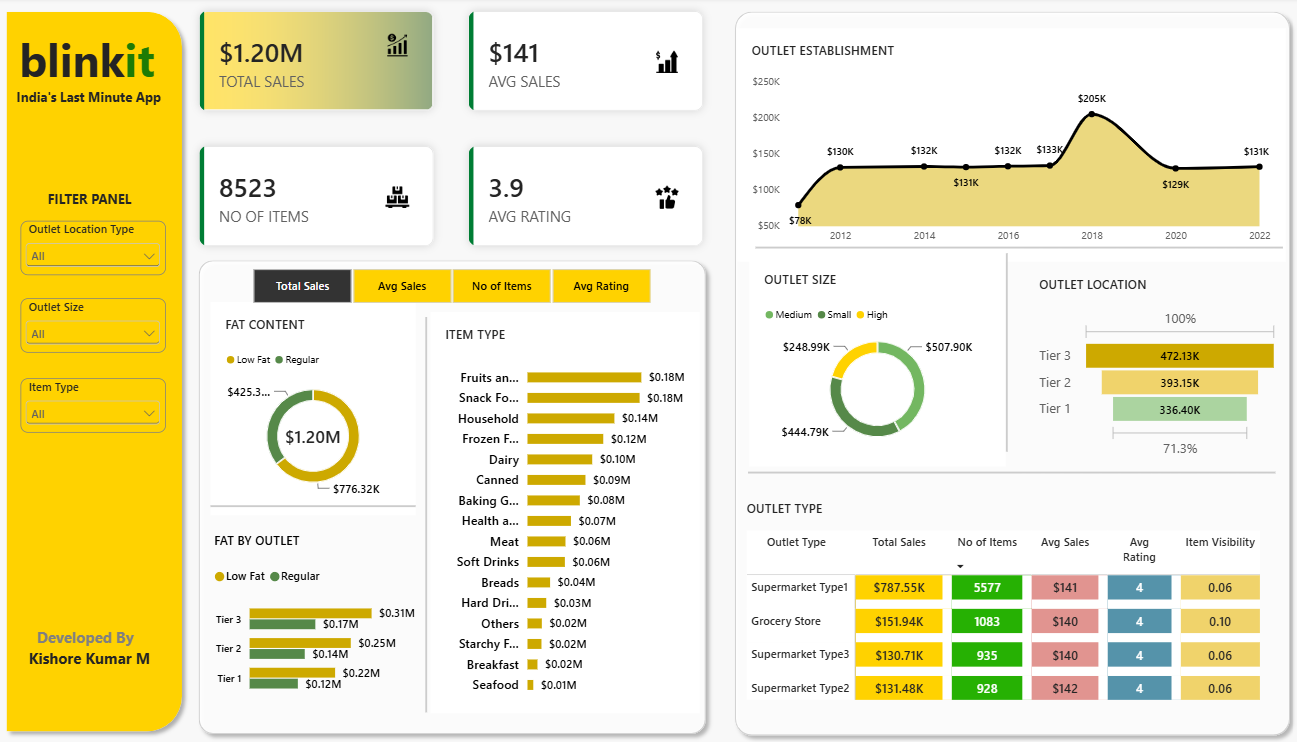

Layout of this report page (visuals, bound fields, positions):
{"tool":"powerbi","page":{"name":"Page 1","canvas":[1400,800],"ordinal":0},"visuals":[{"type":"shape","box":[0,6.2,206.2,790],"z":0},{"type":"textbox","box":[16.2,97.5,162.5,41.2],"z":1000},{"type":"textbox","box":[22.5,33.8,175,76.2],"z":2000},{"type":"cardVisual","fields":{"Data":["BlinkIT Grocery Data.Total Sales","BlinkIT Grocery Data.Avg Sales","BlinkIT Grocery Data.No of Items","BlinkIT Grocery Data.Avg Rating"]},"box":[201.2,0,570,283.8],"z":3000},{"type":"shape","box":[206.2,273.8,561.4,525.7],"z":4000},{"type":"donutChart","title":"FAT CONTENT","fields":{"Category":["BlinkIT Grocery Data.Item Fat Content"],"Y":["BlinkIT Grocery Data.Total Sales"]},"box":[227.5,327.5,220,228.8],"z":5000},{"type":"slicer","fields":{"Values":["Metrics.Metrics"]},"box":[253.8,290,465,40],"z":6000},{"type":"clusteredBarChart","title":"FAT BY OUTLET","fields":{"Category":["BlinkIT Grocery Data.Outlet Location Type"],"Series":["BlinkIT Grocery Data.Item Fat Content"],"Y":["BlinkIT Grocery Data.Total Sales"]},"box":[216.2,558.8,247.5,212.5],"z":7000},{"type":"shape","box":[227.5,533.8,220,25],"z":8000},{"type":"shape","box":[447.5,343.8,23,424],"z":9000},{"type":"barChart","title":"ITEM TYPE","fields":{"Category":["BlinkIT Grocery Data.Item Type"],"Y":["BlinkIT Grocery Data.Total Sales"]},"box":[463.8,337.5,288.8,430],"z":10000},{"type":"shape","box":[781.2,6.2,612.9,794.3],"z":11000},{"type":"lineChart","title":"OUTLET ESTABLISHMENT","fields":{"Category":["BlinkIT Grocery Data.Outlet Establishment Year"],"Y":["BlinkIT Grocery Data.Total Sales"]},"box":[792.5,33.8,588.6,250],"z":12000},{"type":"shape","box":[812.9,248.6,565.7,41.4],"z":13000},{"type":"donutChart","title":"OUTLET SIZE","fields":{"Category":["BlinkIT Grocery Data.Outlet Size"],"Y":["BlinkIT Grocery Data.Total Sales"]},"box":[806.2,278.8,275,225],"z":14000},{"type":"shape","box":[971.2,275,220,212.9],"z":15000},{"type":"funnel","title":"OUTLET LOCATION","fields":{"Category":["BlinkIT Grocery Data.Outlet Location Type"],"Y":["Sum(BlinkIT Grocery Data.Sales)"]},"box":[1100,284.3,288.6,225.7],"z":16000},{"type":"shape","box":[803.8,488.8,565.7,41.4],"z":17000},{"type":"pivotTable","title":"OUTLET TYPE","fields":{"Rows":["BlinkIT Grocery Data.Outlet Type"],"Values":["BlinkIT Grocery Data.Total Sales","BlinkIT Grocery Data.No of Items","BlinkIT Grocery Data.Avg Sales","BlinkIT Grocery Data.Avg Rating","Avg(BlinkIT Grocery Data.Item Visibility)"]},"box":[787.5,523.8,588.6,260],"z":18000},{"type":"slicer","fields":{"Values":["BlinkIT Grocery Data.Outlet Location Type"]},"box":[24.3,240,155.7,58.6],"z":19000},{"type":"slicer","fields":{"Values":["BlinkIT Grocery Data.Outlet Size"]},"box":[24.3,322.9,155.7,58.6],"z":20000},{"type":"slicer","fields":{"Values":["BlinkIT Grocery Data.Item Type"]},"box":[24.3,408.6,155.7,58.6],"z":21000},{"type":"textbox","box":[45,206.2,152.5,33.8],"z":22000},{"type":"textbox","box":[23.8,676.2,156.2,95],"z":22001}]}

Visuals, with their boxes in screenshot pixels (x1, y1, x2, y2), scaled from the page's 1400x800 canvas onto the 1297x742 screenshot:
shape: {"left": 0, "top": 6, "right": 191, "bottom": 738}
textbox: {"left": 15, "top": 90, "right": 166, "bottom": 129}
textbox: {"left": 21, "top": 31, "right": 183, "bottom": 102}
cardVisual - BlinkIT Grocery Data.Total Sales x BlinkIT Grocery Data.Avg Sales: {"left": 186, "top": 0, "right": 714, "bottom": 263}
shape: {"left": 191, "top": 254, "right": 711, "bottom": 741}
"FAT CONTENT" donutChart: {"left": 211, "top": 304, "right": 415, "bottom": 516}
slicer - Metrics.Metrics: {"left": 235, "top": 269, "right": 666, "bottom": 306}
"FAT BY OUTLET" clusteredBarChart: {"left": 200, "top": 518, "right": 430, "bottom": 715}
shape: {"left": 211, "top": 495, "right": 415, "bottom": 518}
shape: {"left": 415, "top": 319, "right": 436, "bottom": 712}
"ITEM TYPE" barChart: {"left": 430, "top": 313, "right": 697, "bottom": 712}
shape: {"left": 724, "top": 6, "right": 1292, "bottom": 741}
"OUTLET ESTABLISHMENT" lineChart: {"left": 734, "top": 31, "right": 1279, "bottom": 263}
shape: {"left": 753, "top": 231, "right": 1277, "bottom": 269}
"OUTLET SIZE" donutChart: {"left": 747, "top": 259, "right": 1002, "bottom": 467}
shape: {"left": 900, "top": 255, "right": 1104, "bottom": 453}
"OUTLET LOCATION" funnel: {"left": 1019, "top": 264, "right": 1286, "bottom": 473}
shape: {"left": 745, "top": 453, "right": 1269, "bottom": 492}
"OUTLET TYPE" pivotTable: {"left": 730, "top": 486, "right": 1275, "bottom": 727}
slicer - BlinkIT Grocery Data.Outlet Location Type: {"left": 23, "top": 223, "right": 167, "bottom": 277}
slicer - BlinkIT Grocery Data.Outlet Size: {"left": 23, "top": 299, "right": 167, "bottom": 354}
slicer - BlinkIT Grocery Data.Item Type: {"left": 23, "top": 379, "right": 167, "bottom": 433}
textbox: {"left": 42, "top": 191, "right": 183, "bottom": 223}
textbox: {"left": 22, "top": 627, "right": 167, "bottom": 715}
